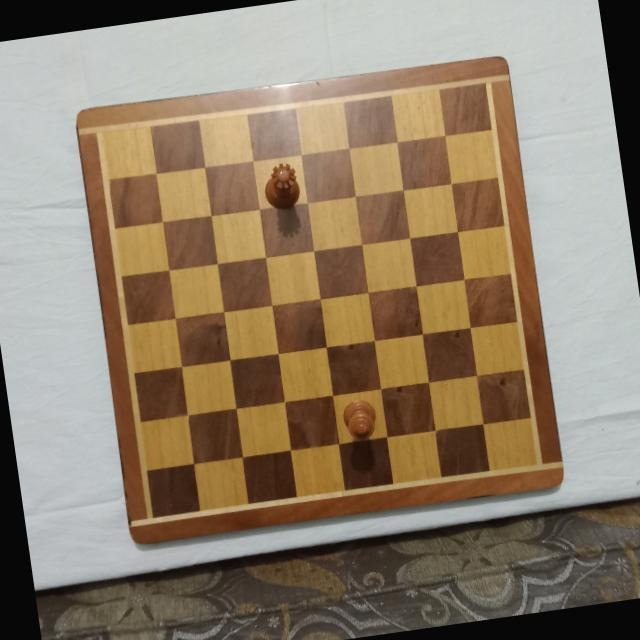white-king: (338, 396, 377, 440)
white-queen: (259, 160, 304, 215)
